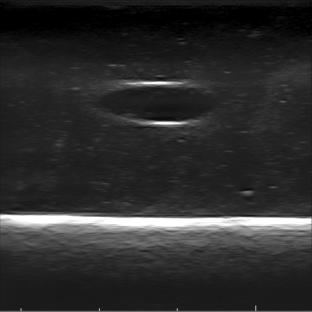vessel: (98, 80, 217, 128)
